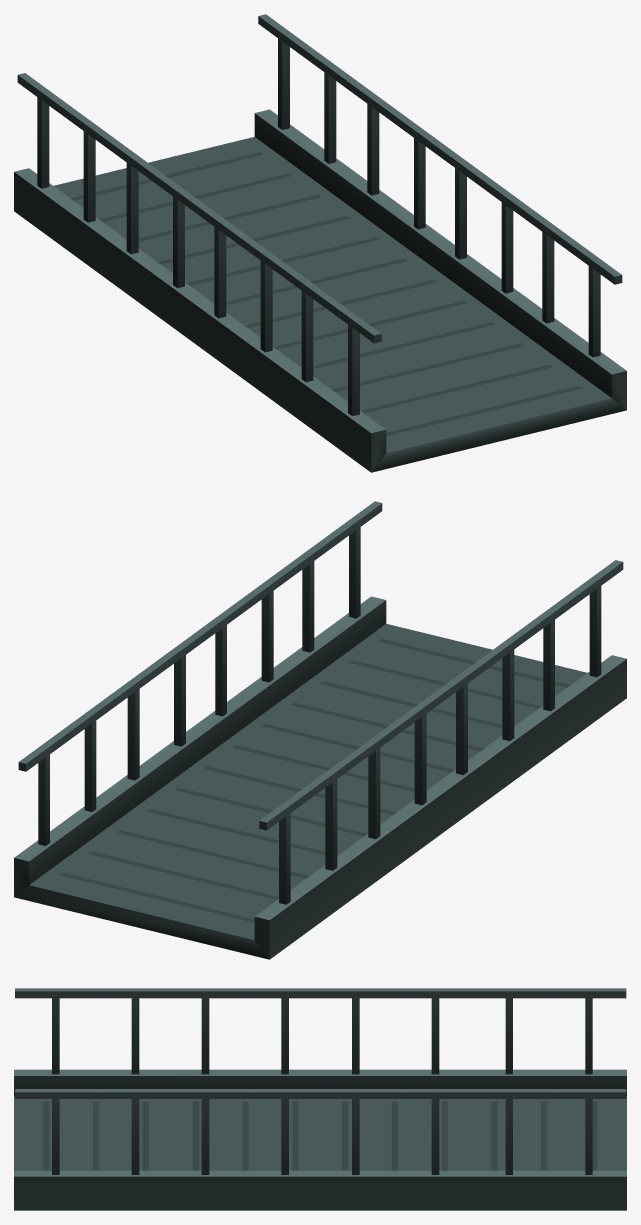
File: Catwalk.fbx
3 renders of one model, top to bottom at view 1: azimuth 30°, elevation 25°; view 2: azimuth 150°, elevation 25°; view 3: azimuth 270°, elevation 25°, orthographic. The views are drawn at different scales.
Parts seen in each view (by area): view 1: catwalk, Fence; view 2: catwalk, Fence; view 3: catwalk, Fence.
Part boxes in pixels (x1=…): catwalk: x1=14, y1=109, x2=626, y2=472; Fence: x1=17, y1=14, x2=622, y2=415; catwalk: x1=14, y1=596, x2=626, y2=959; Fence: x1=18, y1=501, x2=623, y2=904; catwalk: x1=14, y1=1069, x2=626, y2=1210; Fence: x1=15, y1=988, x2=626, y2=1174.
Bounding box in the file's own units: 339 × 172 × 821.
